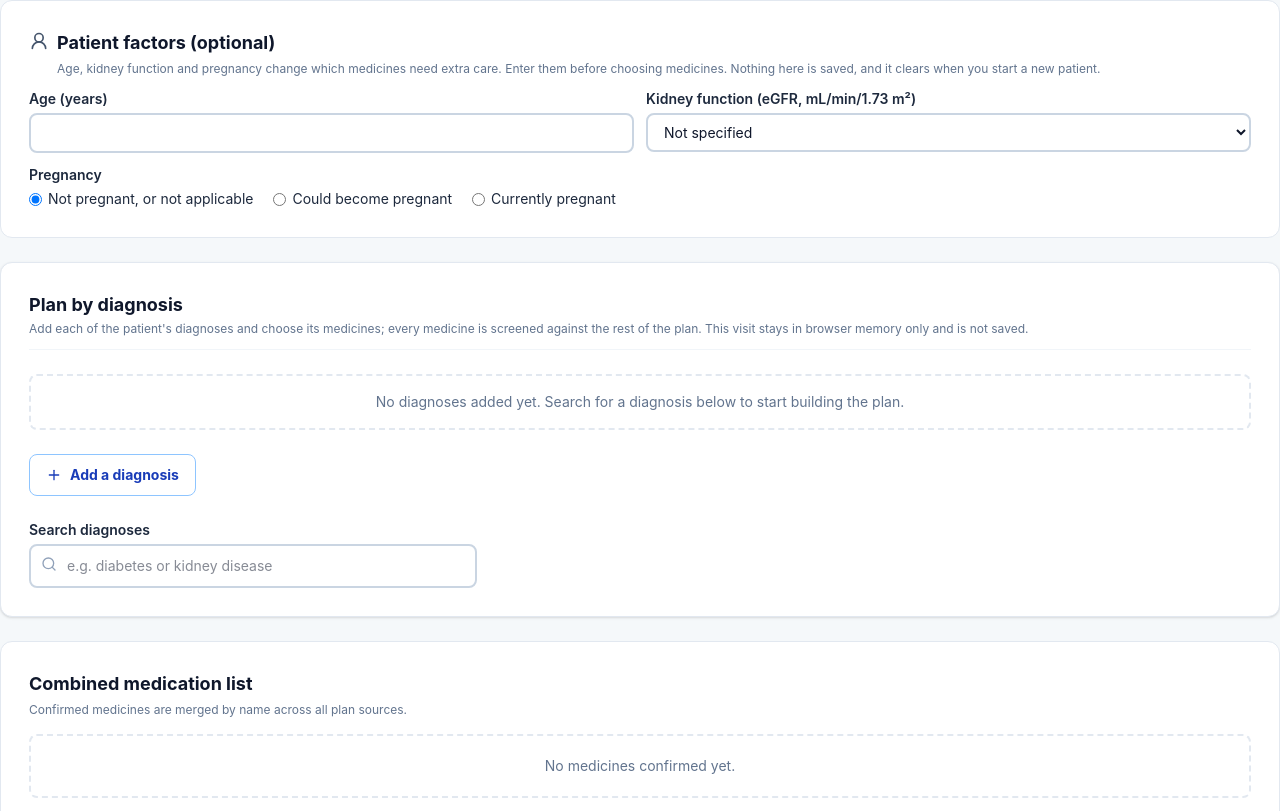
diagnosis medication plan › discards a superseded screening response and clears results when diagnosis is removed
Type "diabetes" into the dropdown labelled "Search diagnoses" at x=253, y=566, box [29, 544, 477, 588]
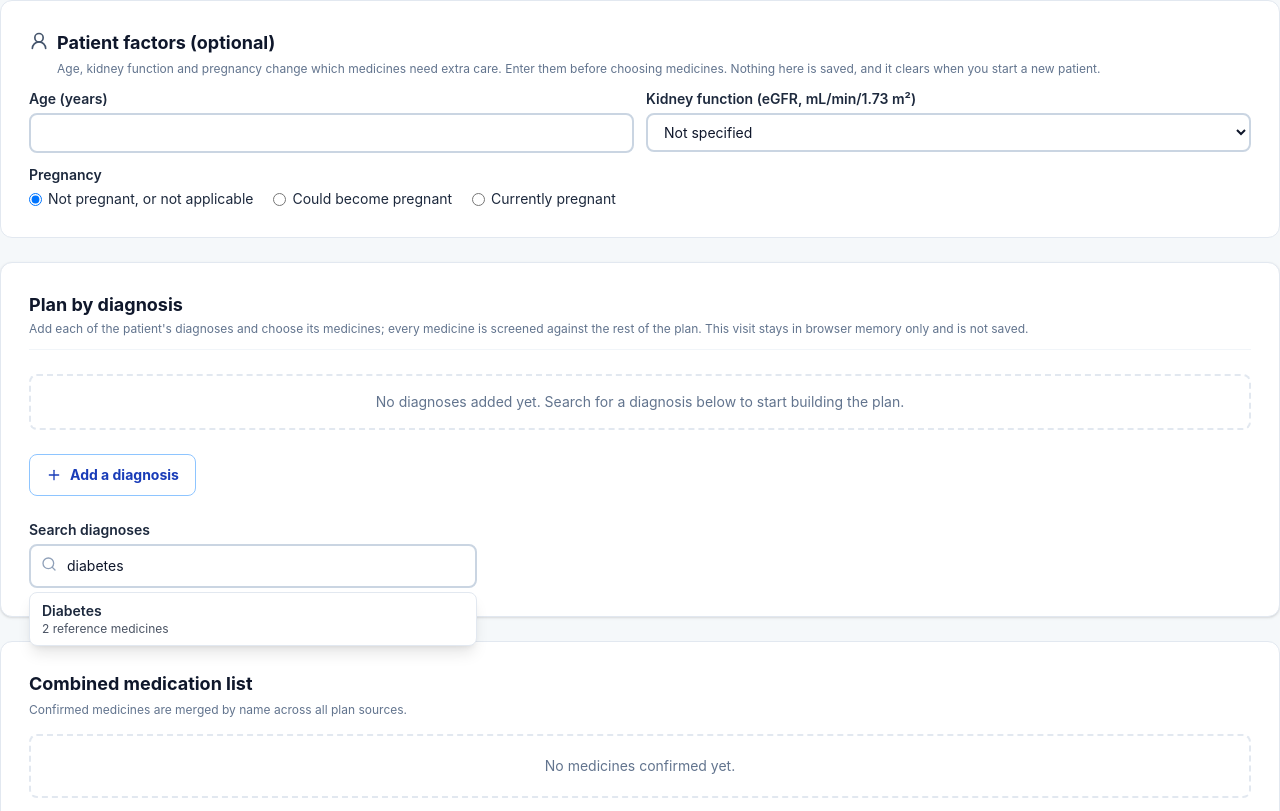
Click the option "Diabetes 2 reference medicines" at x=72, y=610, box [30, 593, 476, 645]
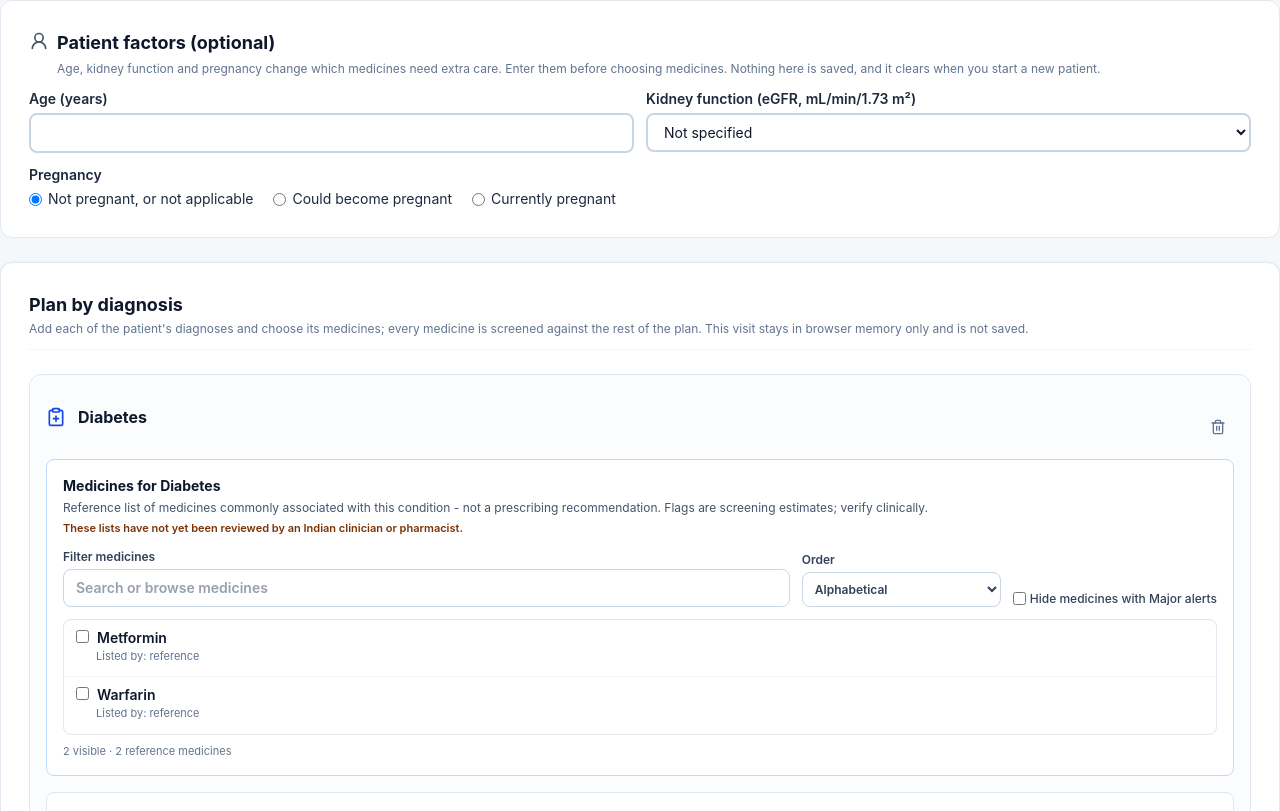
Click the checkbox labelled "Metformin" at x=82, y=636, box [76, 630, 89, 642]
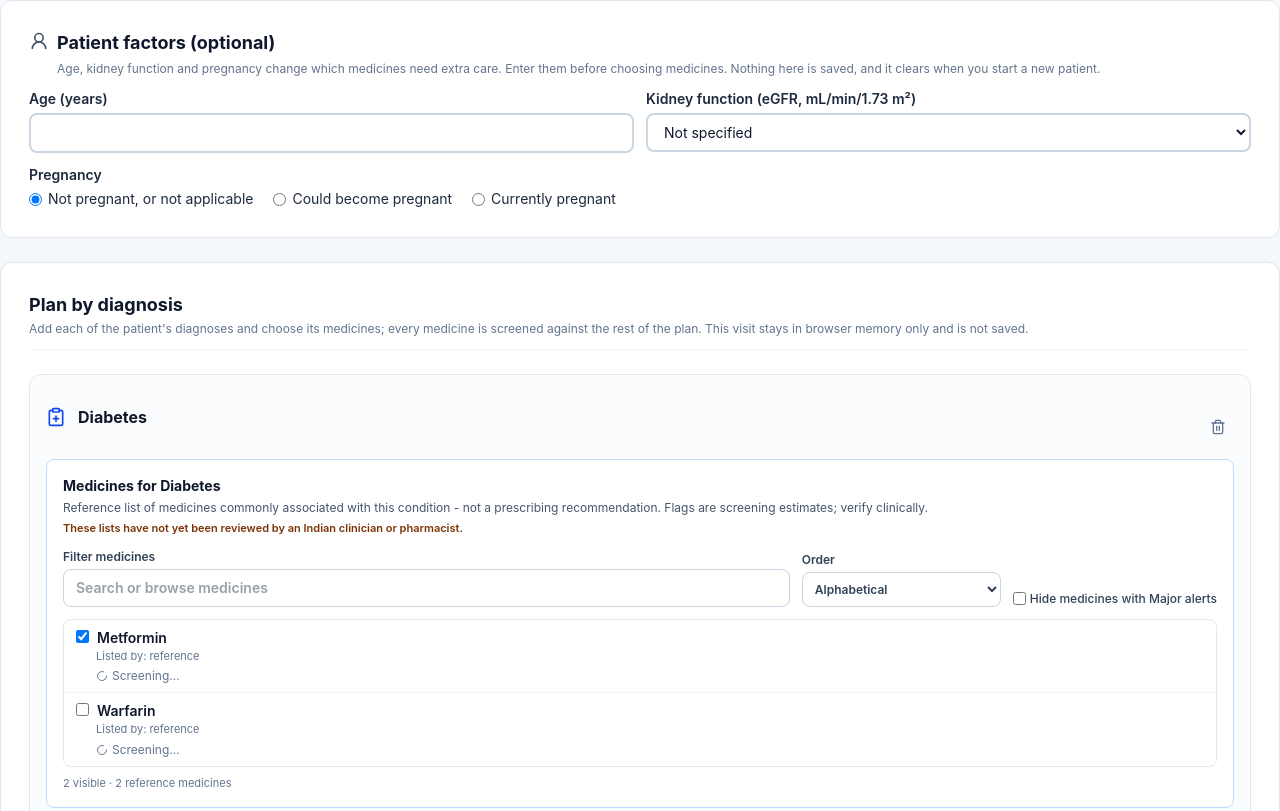
Click the checkbox labelled "Warfarin" at x=82, y=710, box [76, 703, 89, 716]
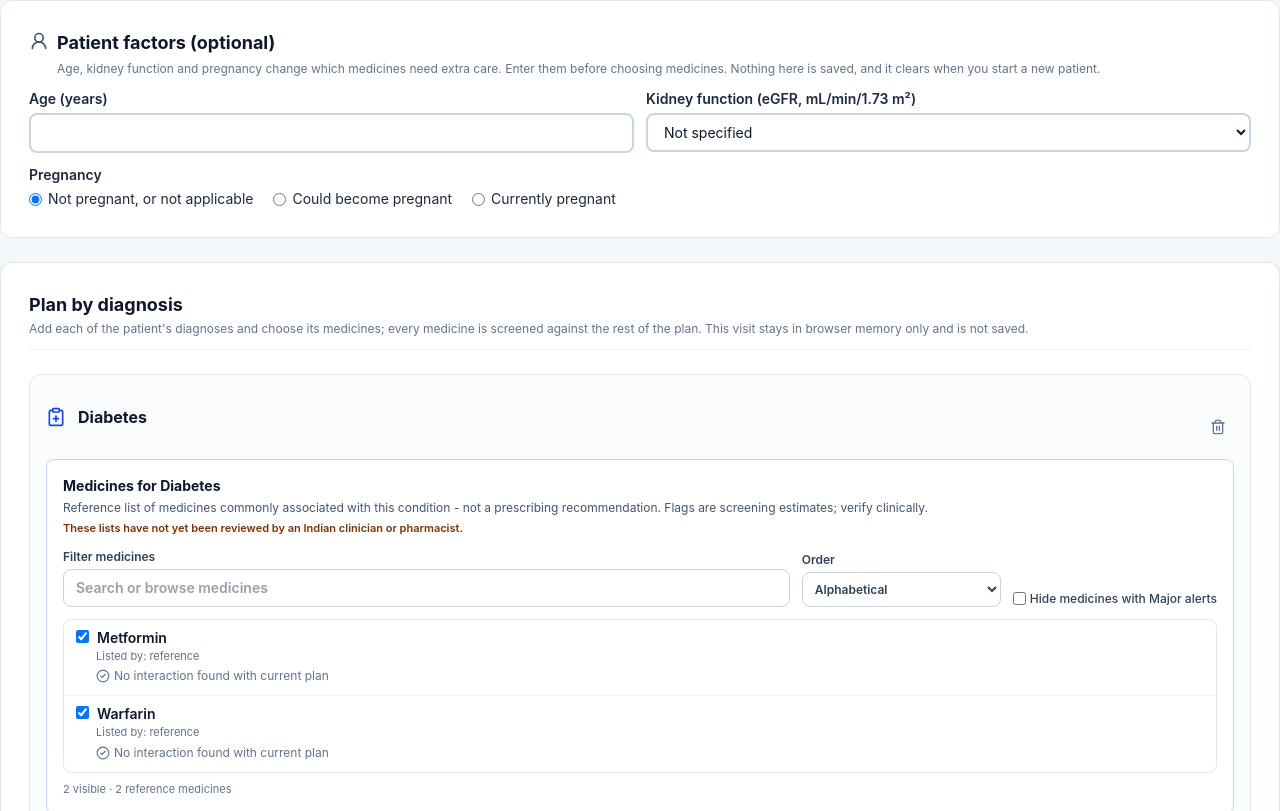
Click the button named "Remove diagnosis Diabetes" at x=1218, y=427, box [1202, 411, 1234, 443]
(page scrolled)
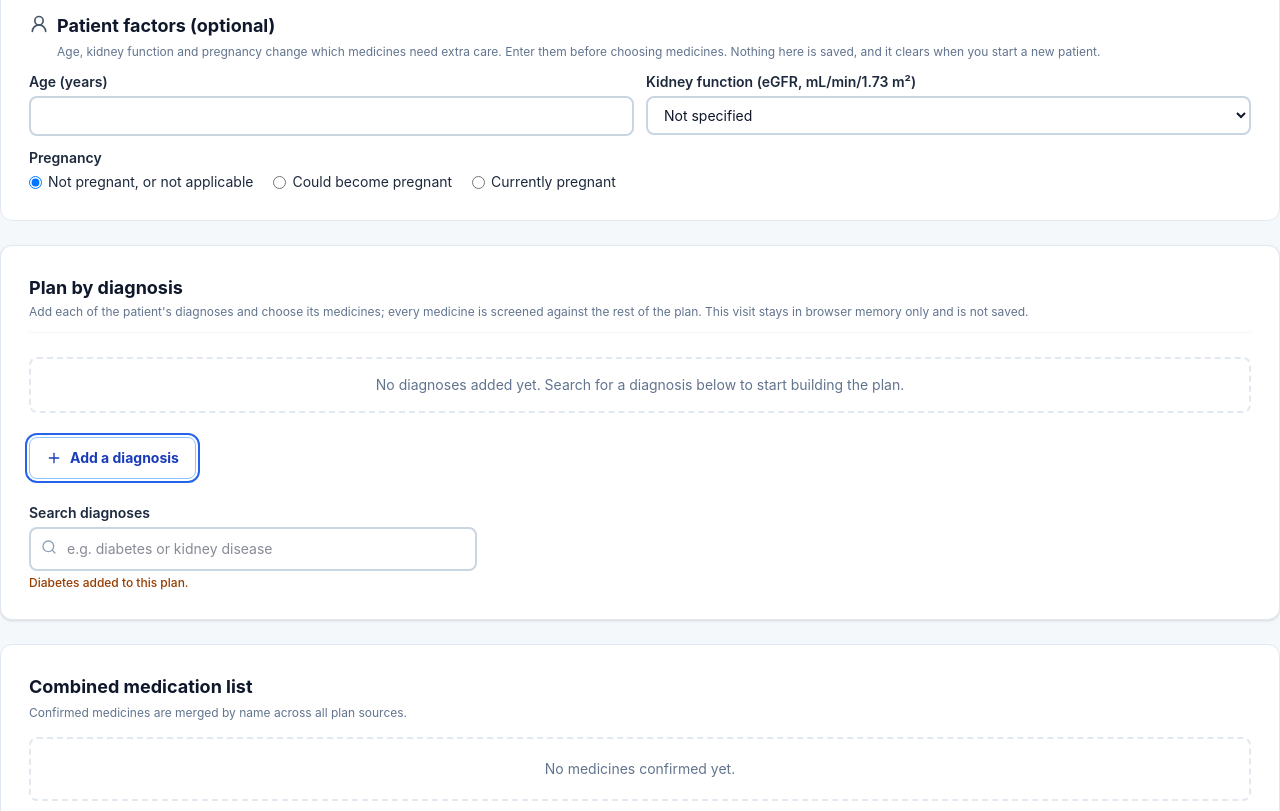
Result: the text "No interaction found with current plan" is gone
